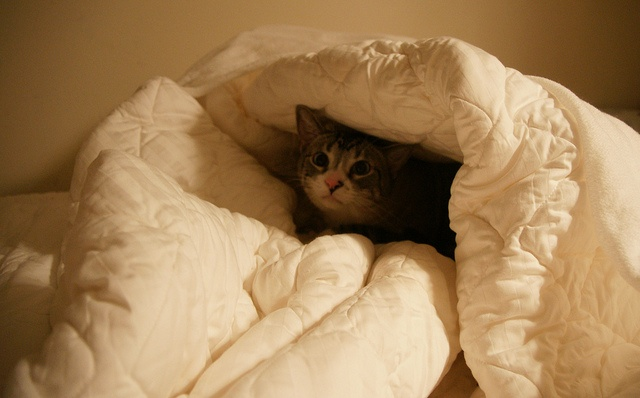bed: (2, 23, 640, 398)
cat: (298, 106, 640, 356)
